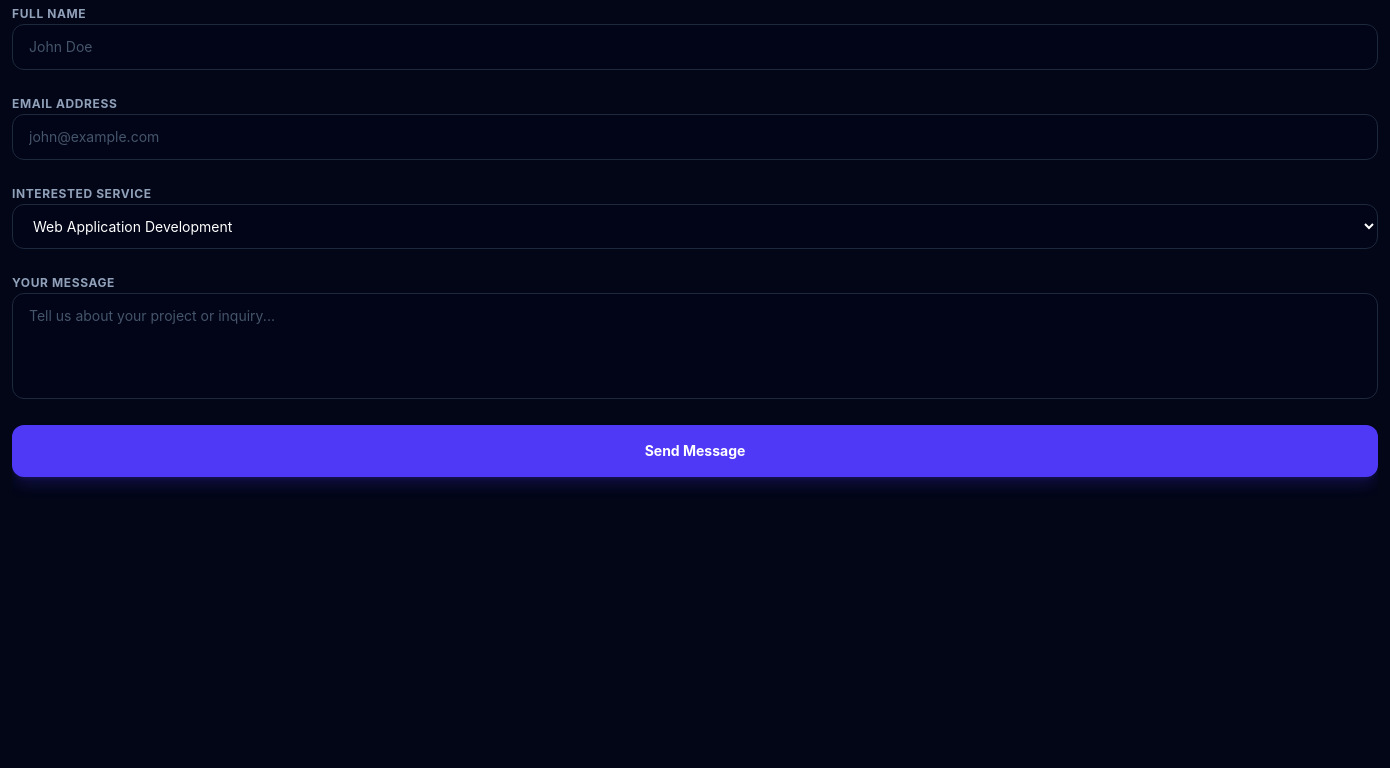
Test: ContactForm shows error on submission failure
In the field labelled "Full Name": (695, 47) [12,24,1378,70], type "Test User"
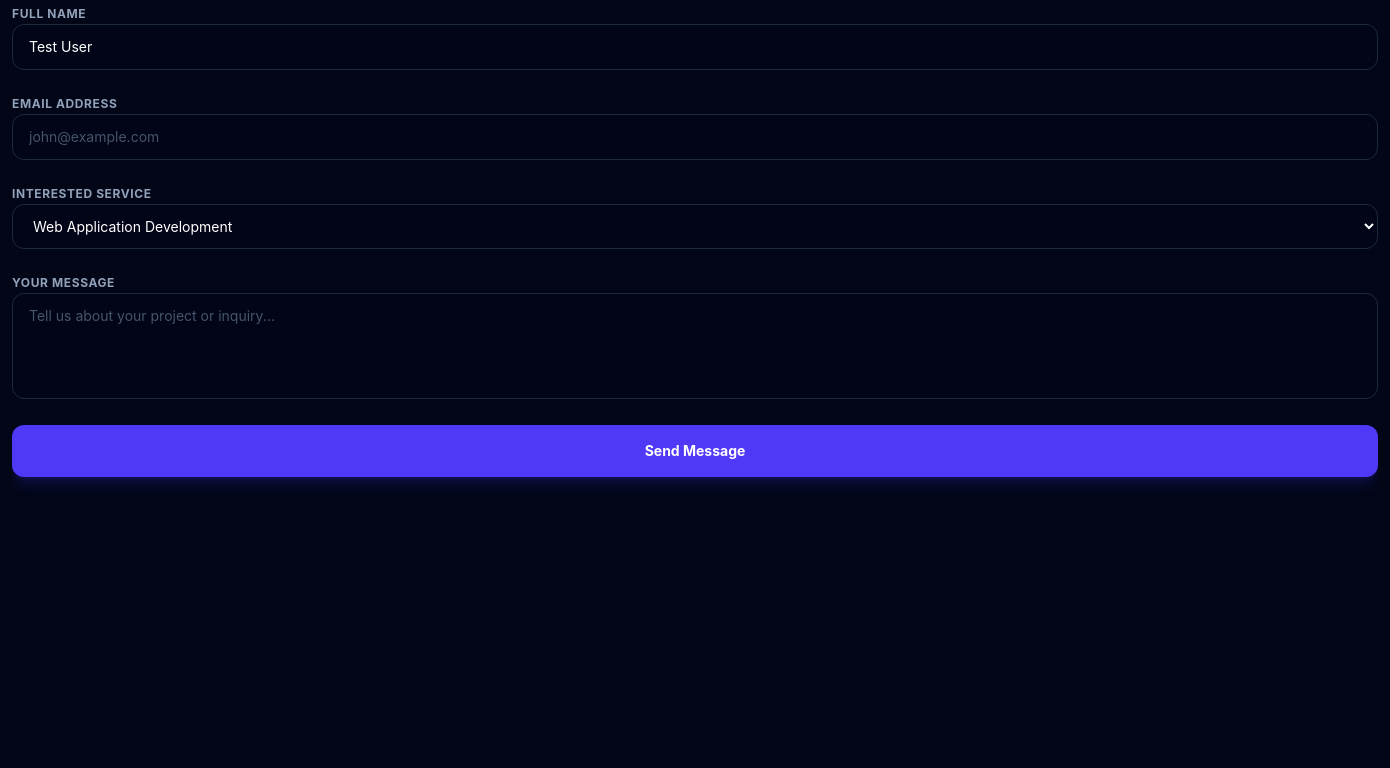
In the field labelled "Email Address": (695, 137) [12,114,1378,160], type "test@example.com"
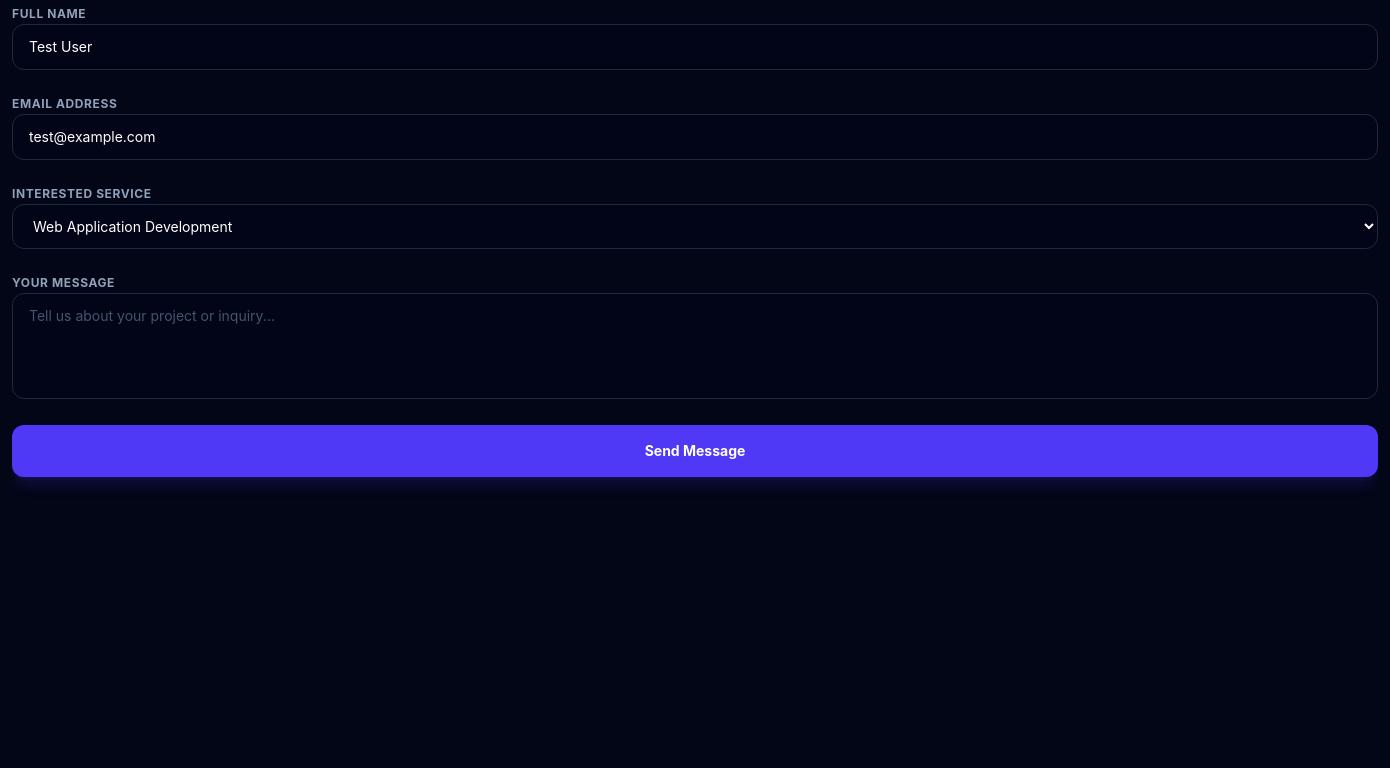
In the text box labelled "Your Message": (695, 346) [12,293,1378,399], type "Short Message"
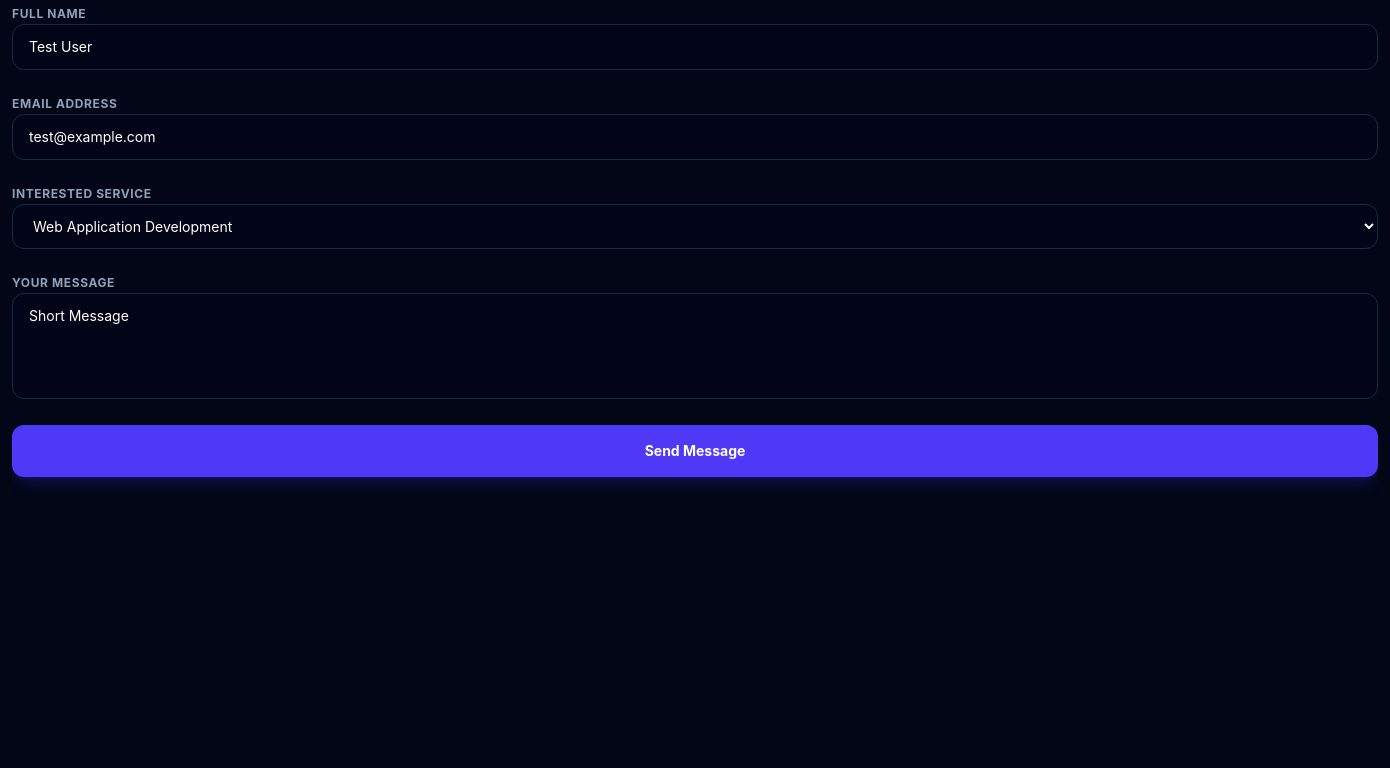
Click the button "Send Message": (695, 451) [12,425,1378,477]
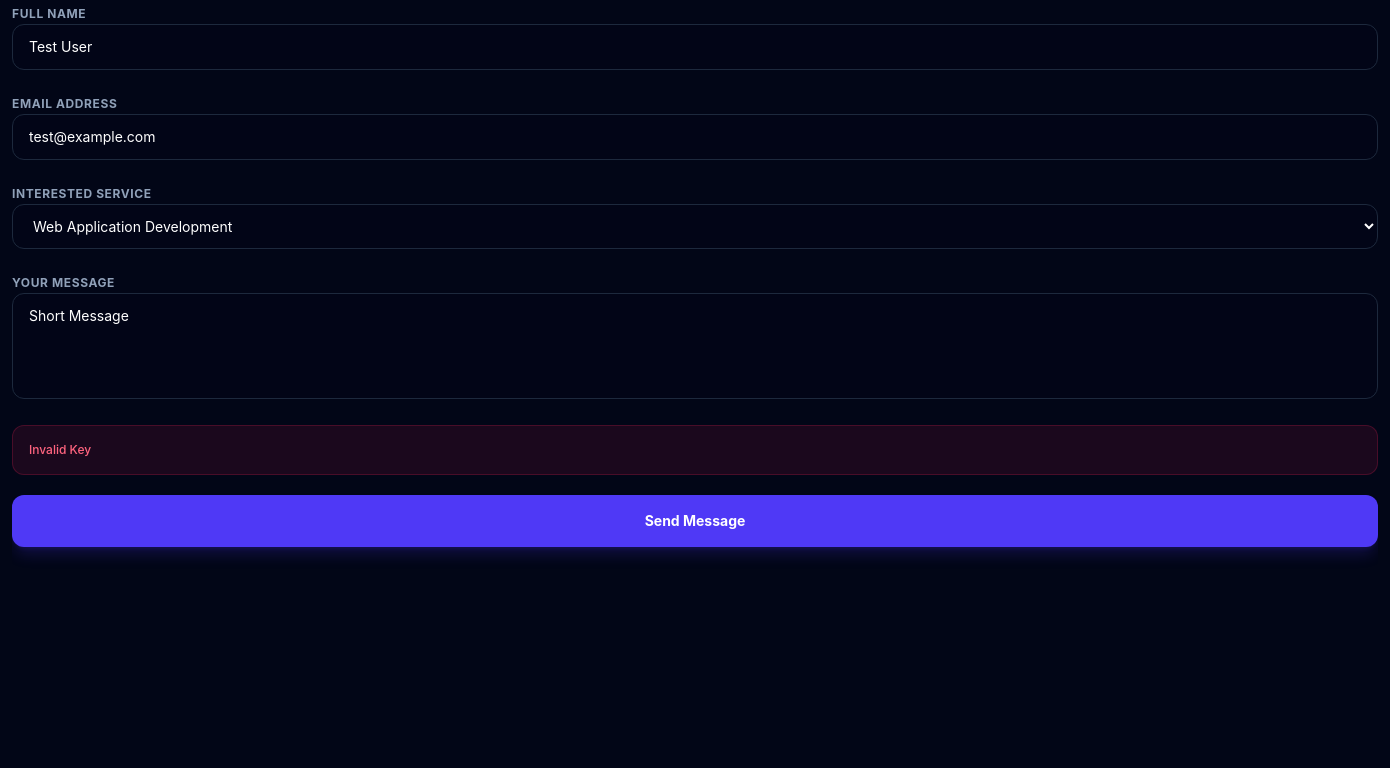
Check: the text "Invalid Key" is shown, box [12,425,1378,475]
